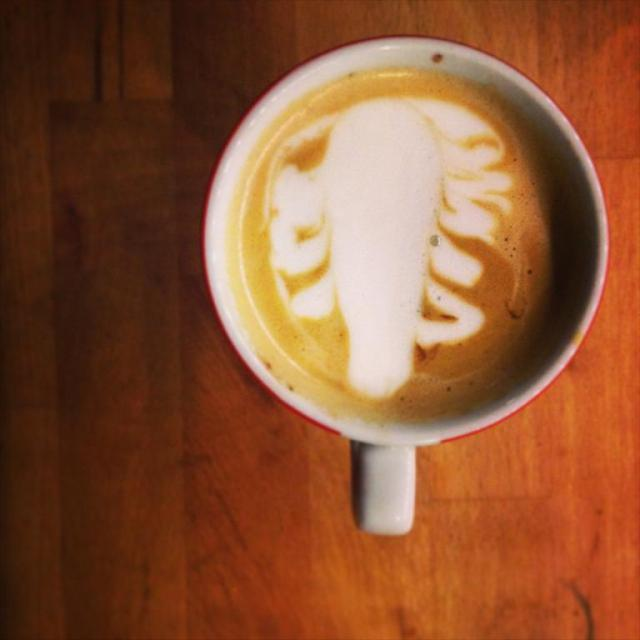latte: (199, 34, 609, 446)
